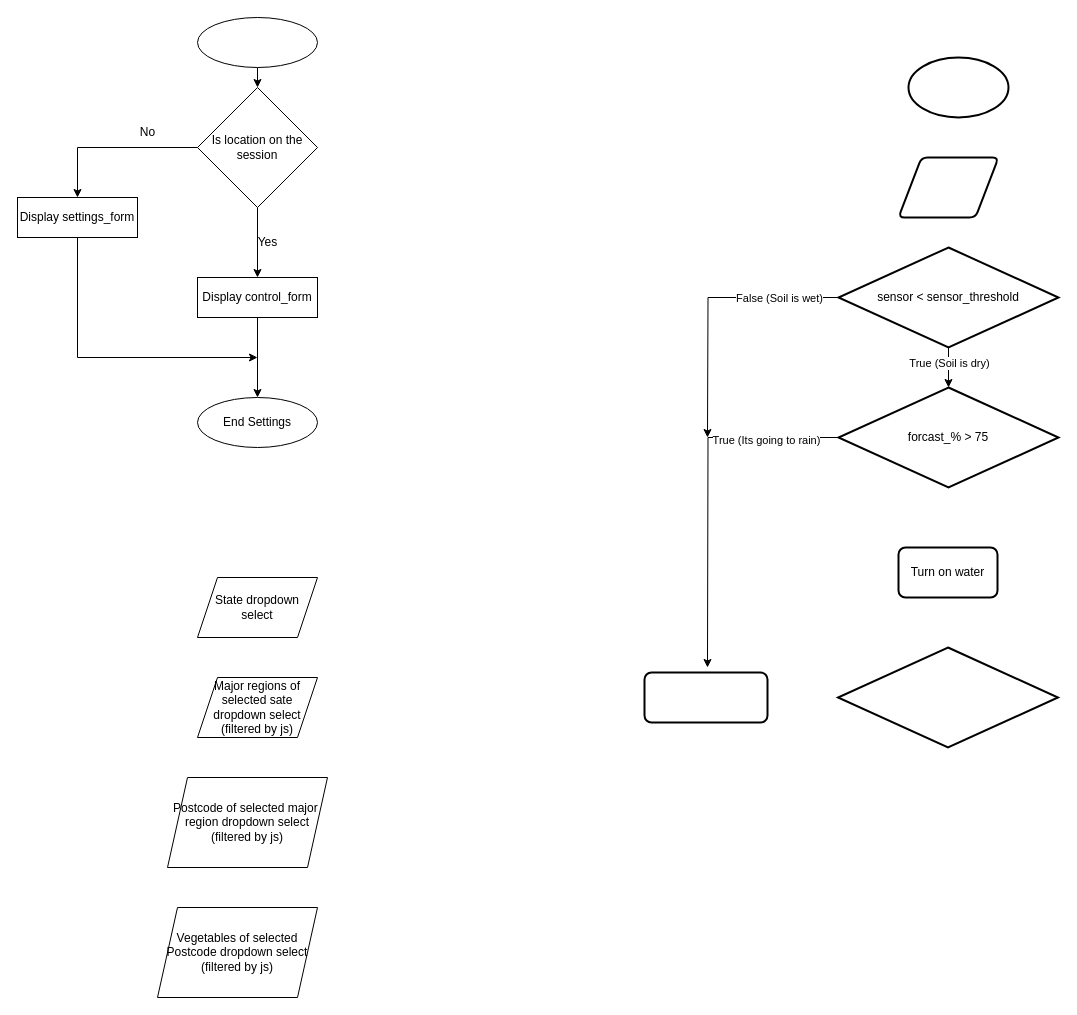
Image size: 1077x1015. Some labels were removed from this diagram. Each missing label, with the box of its shape:
Begin: (907, 56, 1009, 118)
Begin Settings: (196, 16, 318, 68)
Read sensor: (897, 156, 999, 218)
runtime expired?: (836, 646, 1058, 748)
turn off water: (643, 671, 768, 723)
